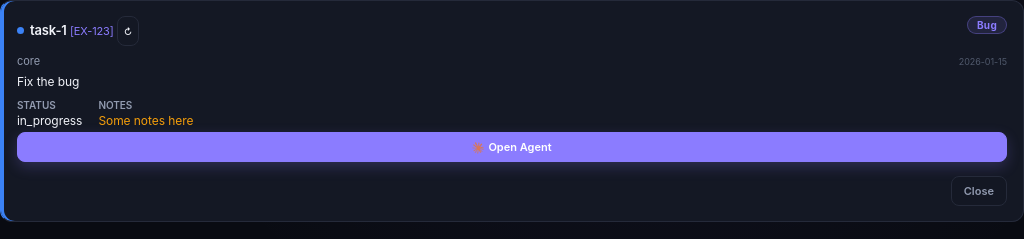
Test case: TaskCard interactions › sync button shows error on failure
Step 1. Click the button with test id "sync-btn" → [128, 31], box x1=117 y1=16 x2=139 y2=46
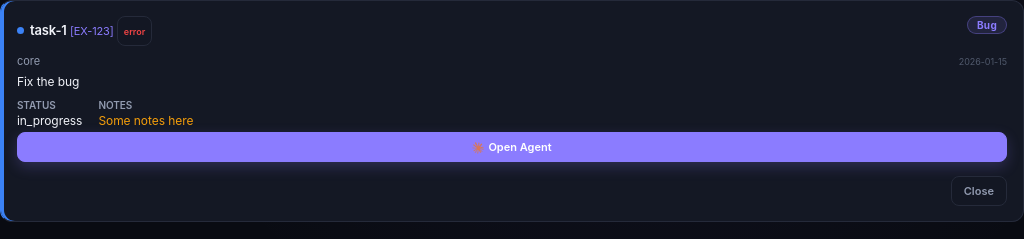
Now the button with test id "sync-btn" reads "error", box x1=117 y1=16 x2=152 y2=46
